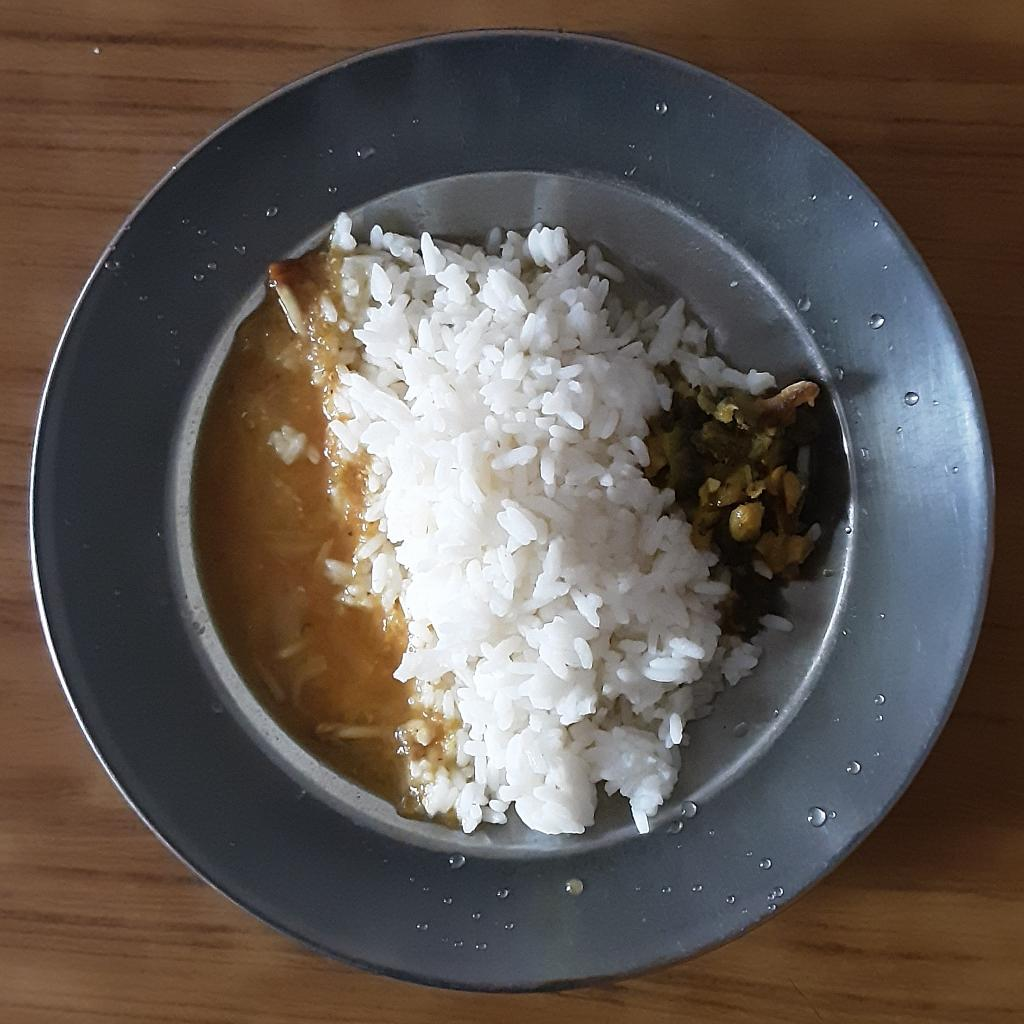daal: (189, 300, 432, 818)
korola-vaji: (645, 369, 820, 582)
rice: (264, 214, 791, 843)
